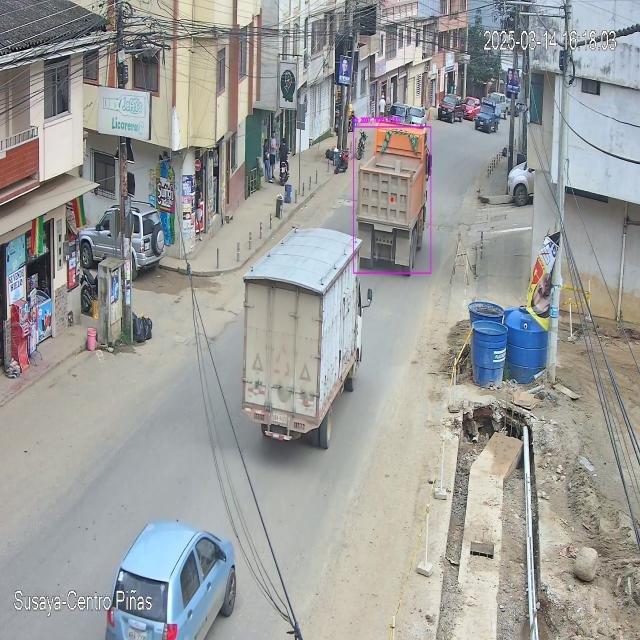TRUCK: (241, 225, 368, 447), (356, 124, 429, 270)
